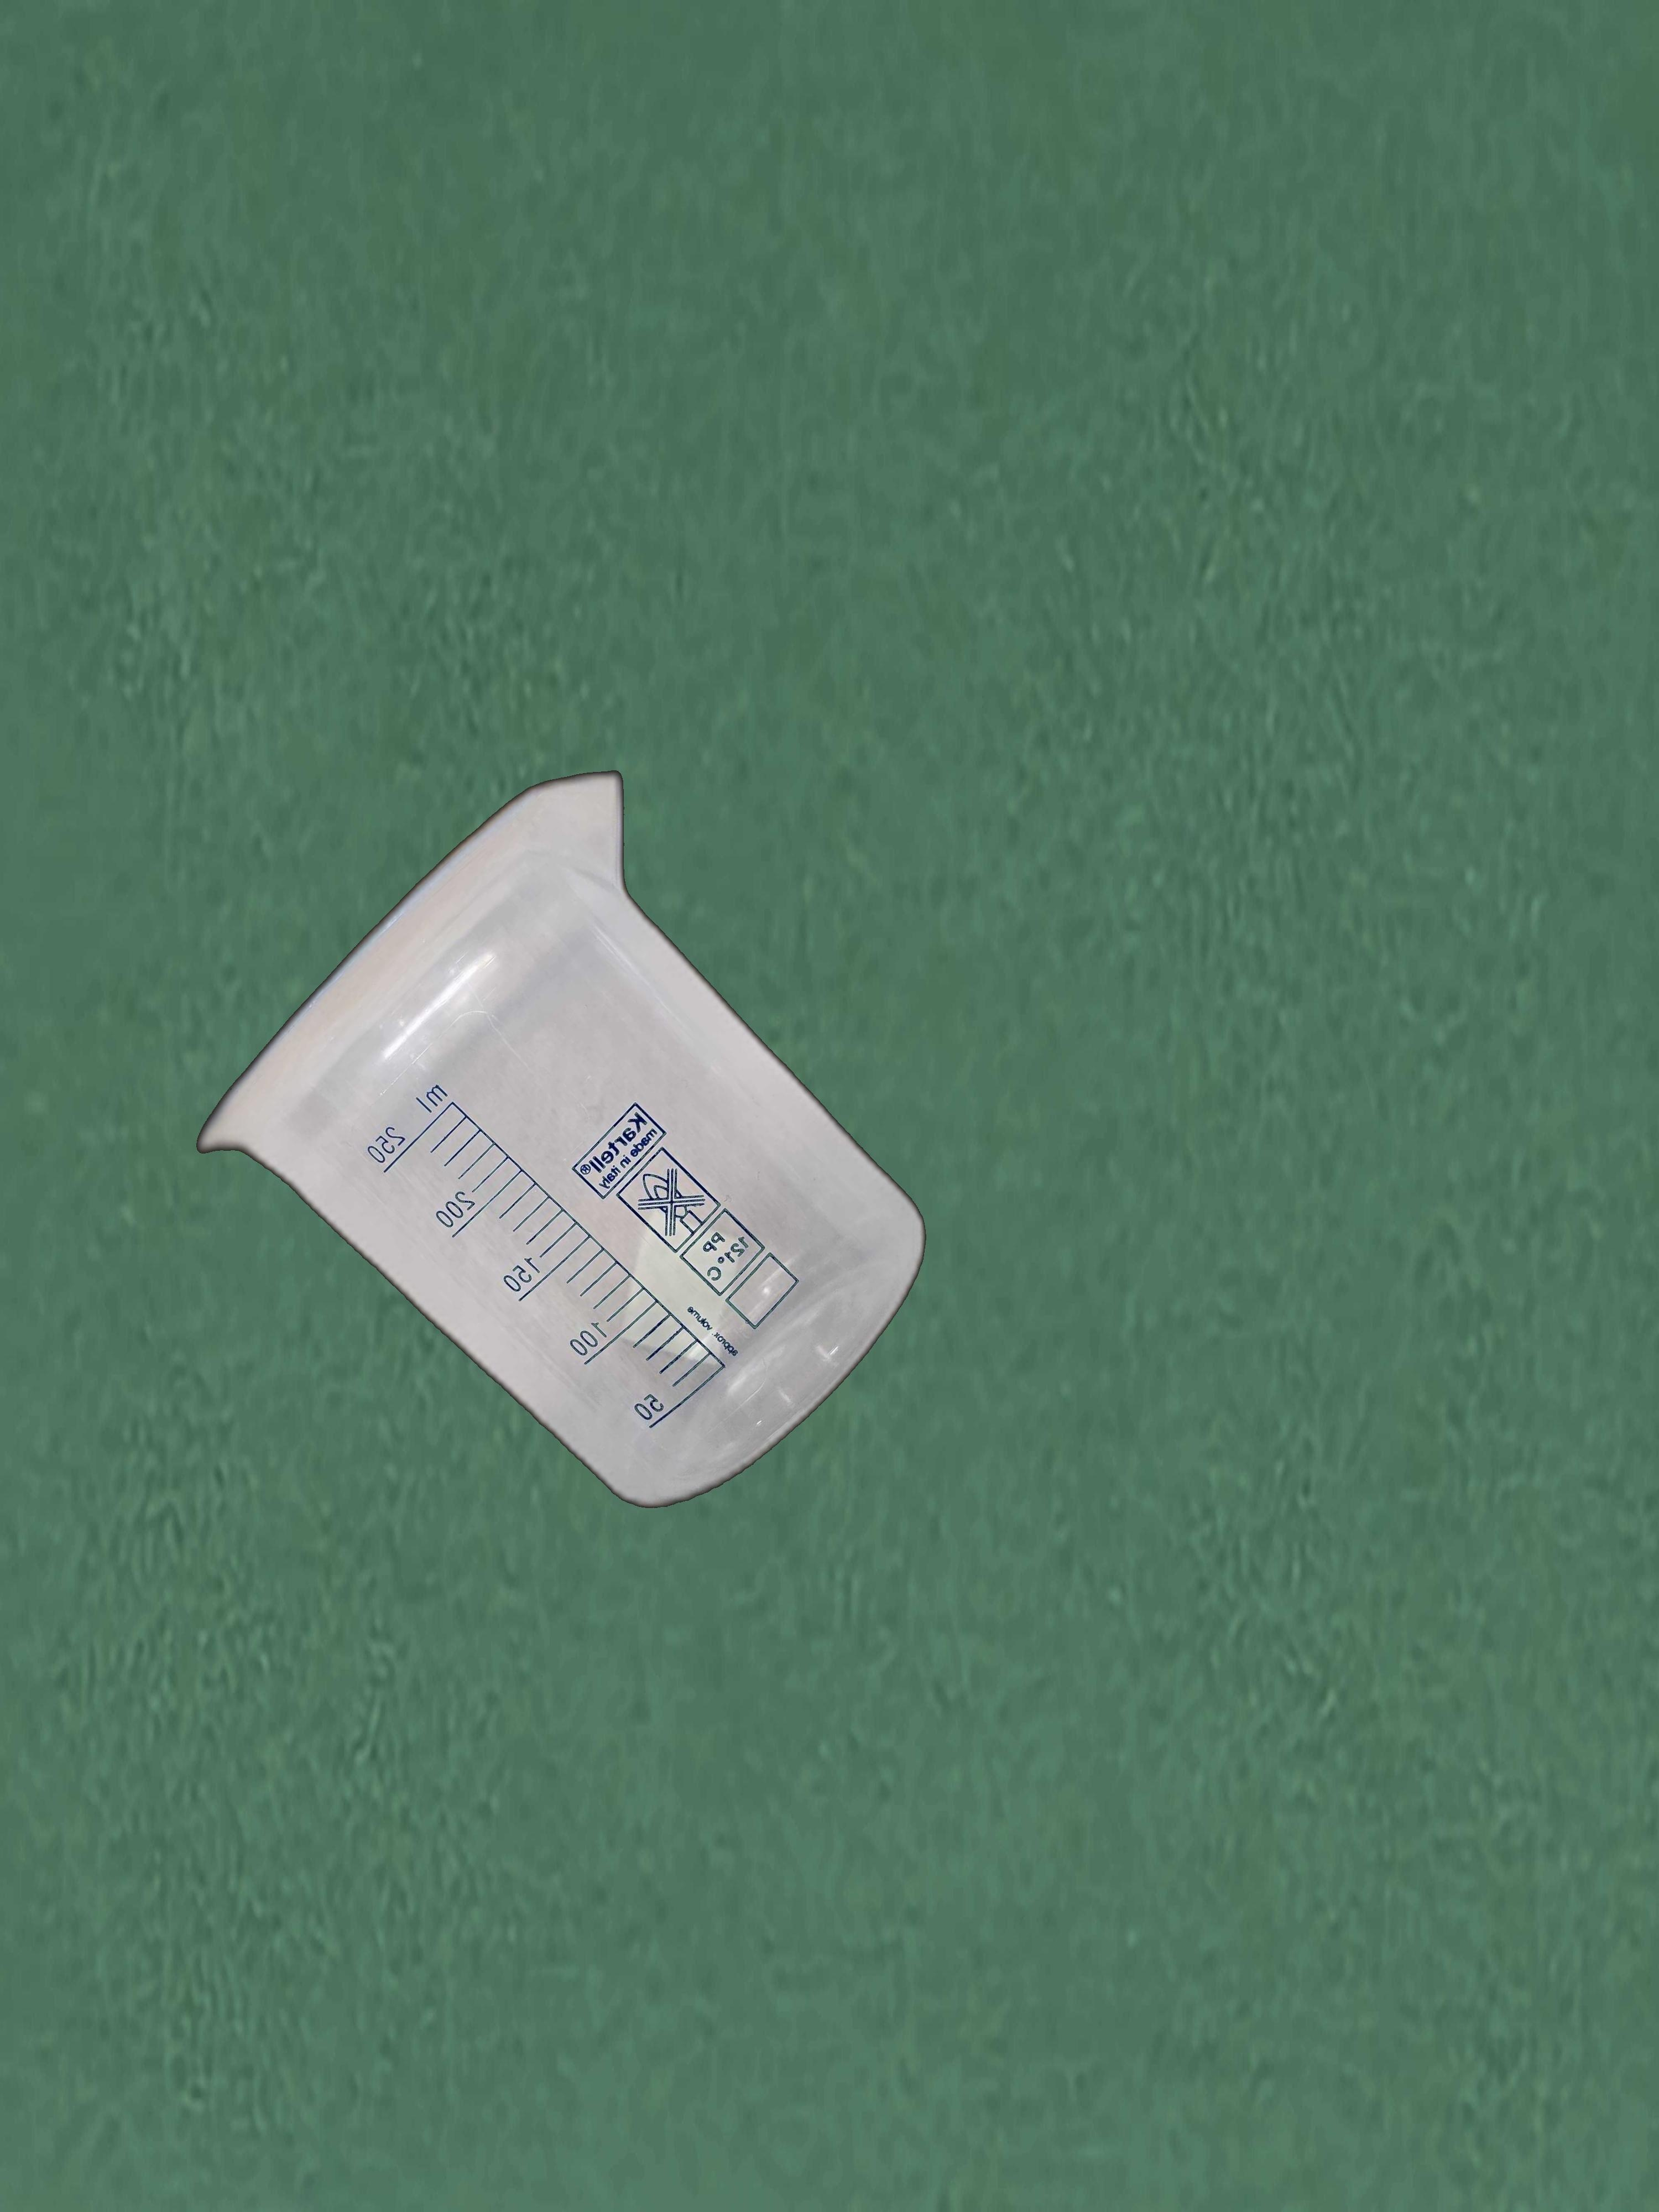becker: (190, 766, 927, 1512)
